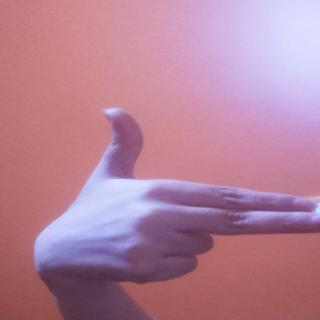GHAYN: (29, 95, 320, 295)
